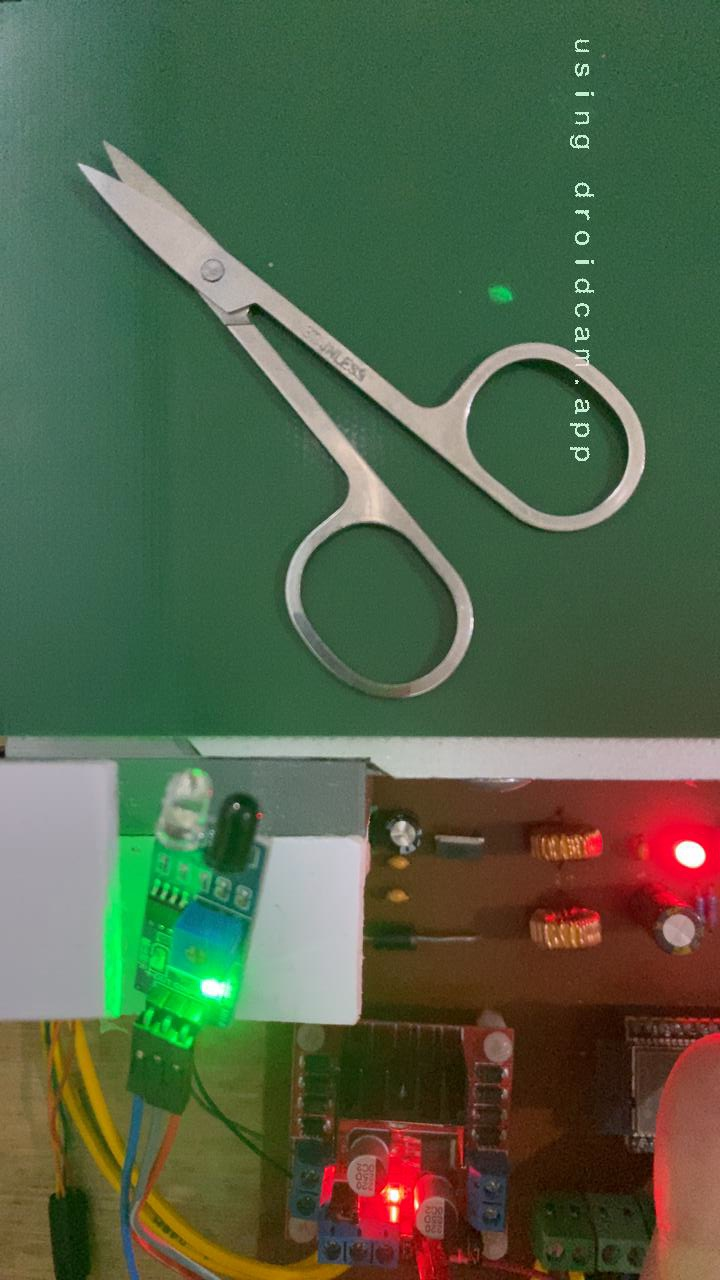scissor: (72, 137, 654, 706)
